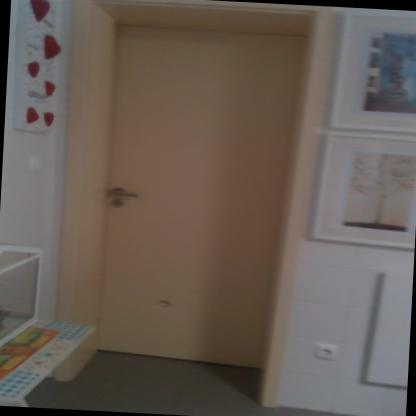closed: (59, 0, 339, 371)
